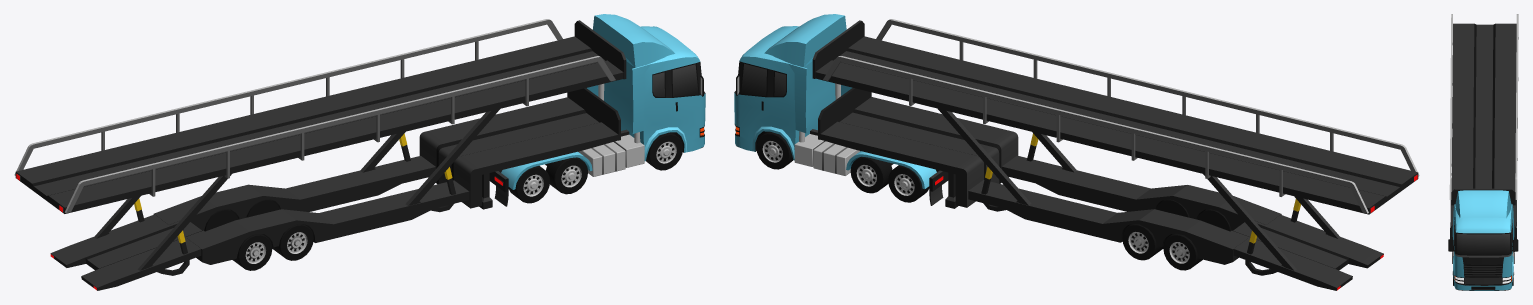
File: Truck_003.glb
3 views of the same model, side by side, from view 1: azimuth 30°, elevation 25°; view 2: azimuth 150°, elevation 25°; view 3: azimuth 270°, elevation 25° (orthographic). The views are drawn at different scales.
Visible parts, largest first — view 1: Truck_003, wheel_3_Truck_003_Wheel_2R, wheel_1_Truck_003_Wheel_1R, wheel_7_Truck_003_Wheel_4R, wheel_5_Truck_003_Wheel_3R, wheel_9_Truck_003_Wheel_6R; view 2: Truck_003, wheel_2_Truck_003_Wheel_2L, wheel_0_Truck_003_Wheel_1L, wheel_4_Truck_003_Wheel_3L, wheel_6_Truck_003_Wheel_4L, wheel_8_Truck_003_Wheel_5L; view 3: Truck_003.
Part boxes in pixels (x1,y1,x2,y2): Truck_003: (14, 14, 705, 290); wheel_3_Truck_003_Wheel_2R: (546, 157, 587, 194); wheel_1_Truck_003_Wheel_1R: (646, 132, 683, 170); wheel_7_Truck_003_Wheel_4R: (272, 224, 313, 260); wheel_5_Truck_003_Wheel_3R: (508, 165, 549, 203); wheel_9_Truck_003_Wheel_6R: (232, 234, 272, 270); Truck_003: (734, 14, 1419, 290); wheel_2_Truck_003_Wheel_2L: (850, 156, 892, 193); wheel_0_Truck_003_Wheel_1L: (756, 131, 793, 169); wheel_4_Truck_003_Wheel_3L: (888, 165, 929, 202); wheel_6_Truck_003_Wheel_4L: (1122, 224, 1163, 260); wheel_8_Truck_003_Wheel_5L: (1163, 233, 1202, 270); Truck_003: (1448, 14, 1518, 290).
Size of the model in its own units: 18.38 by 3.59 by 2.67.
Materials: 2 (2 with a texture image).
